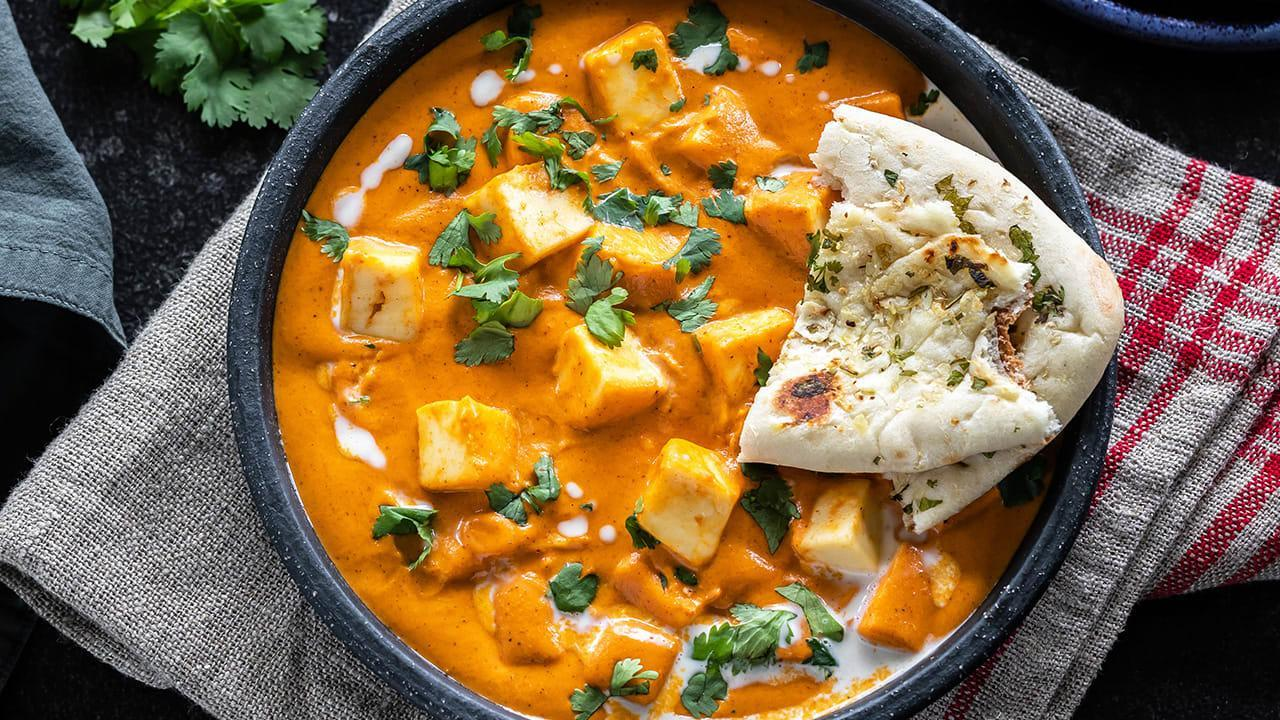paneer: (356, 151, 682, 602)
roti: (836, 133, 1094, 459)
